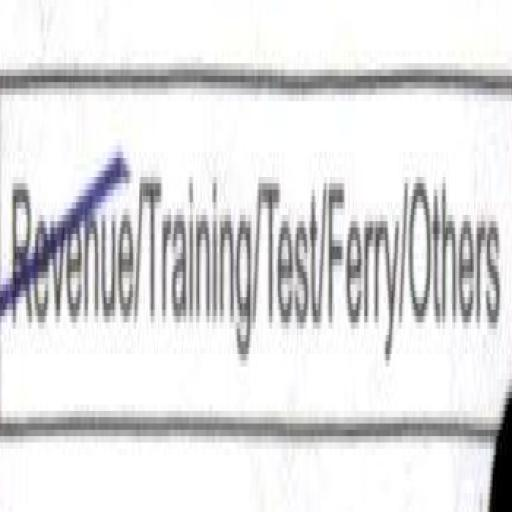check: (0, 0, 137, 442)
